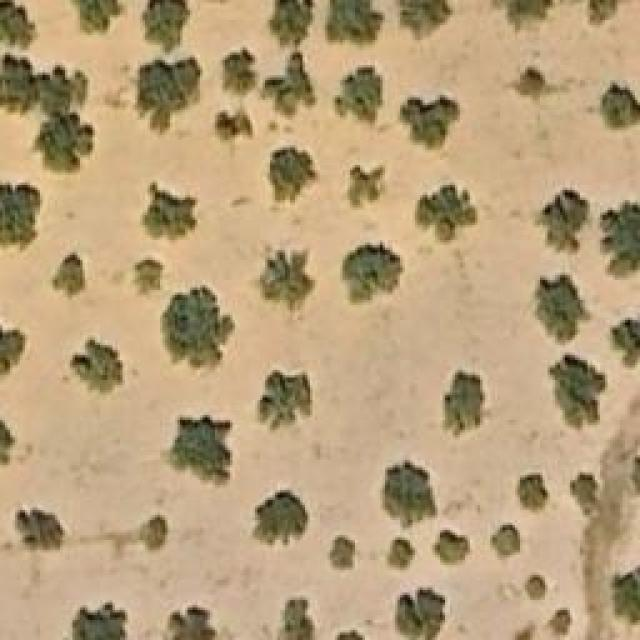Tree: (160, 285, 235, 378), (525, 273, 593, 348), (138, 58, 203, 133), (547, 353, 605, 433), (378, 460, 438, 530), (253, 245, 316, 310), (415, 183, 478, 243), (172, 418, 230, 481), (268, 145, 321, 213), (343, 243, 403, 303), (443, 368, 493, 438), (143, 180, 196, 245), (250, 490, 308, 548), (258, 370, 313, 430), (600, 200, 640, 280), (400, 95, 458, 150), (70, 337, 123, 395), (325, 0, 385, 50), (333, 65, 383, 125), (543, 188, 588, 251), (143, 0, 193, 55), (0, 185, 42, 250), (395, 587, 445, 640), (585, 82, 640, 130), (40, 115, 85, 173), (393, 0, 456, 40), (3, 53, 43, 113), (268, 70, 311, 123), (273, 0, 318, 50), (75, 602, 128, 640), (510, 63, 553, 108), (0, 0, 38, 50), (15, 510, 63, 548), (217, 47, 255, 95), (612, 308, 640, 371), (50, 250, 85, 300), (135, 508, 170, 558), (348, 165, 388, 208), (515, 475, 558, 515), (612, 565, 640, 623), (72, 0, 122, 32), (170, 605, 215, 640), (277, 597, 312, 640), (210, 108, 253, 143), (490, 523, 523, 566), (432, 530, 470, 565), (130, 258, 163, 298), (0, 320, 25, 368), (570, 473, 598, 513), (542, 607, 572, 640), (500, 0, 550, 18), (327, 538, 355, 568), (388, 535, 411, 568), (528, 573, 548, 603), (587, 0, 625, 15), (515, 620, 535, 640)
